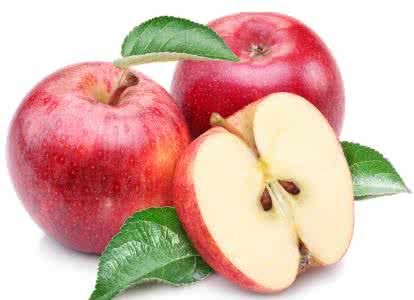apple: (6, 48, 175, 254), (175, 14, 351, 158)
